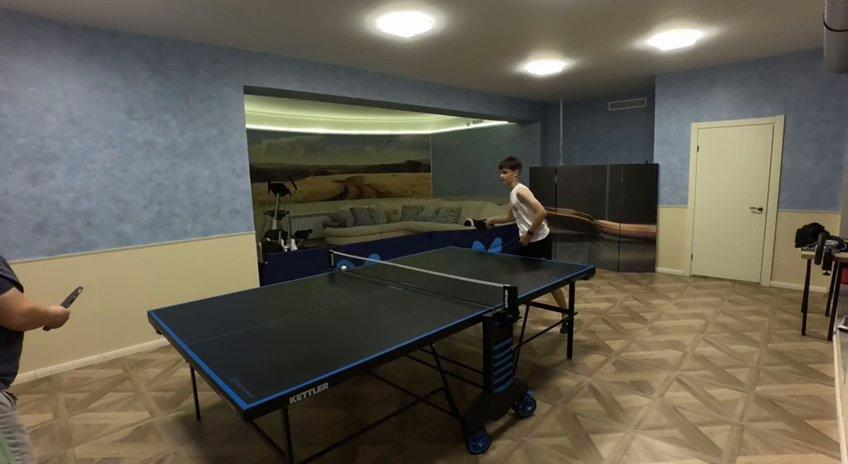Ball: (338, 264, 350, 273)
Net: (327, 251, 515, 308)
Player1: (488, 156, 551, 258)
Player2: (0, 253, 69, 463)
Table: (149, 247, 594, 409)
